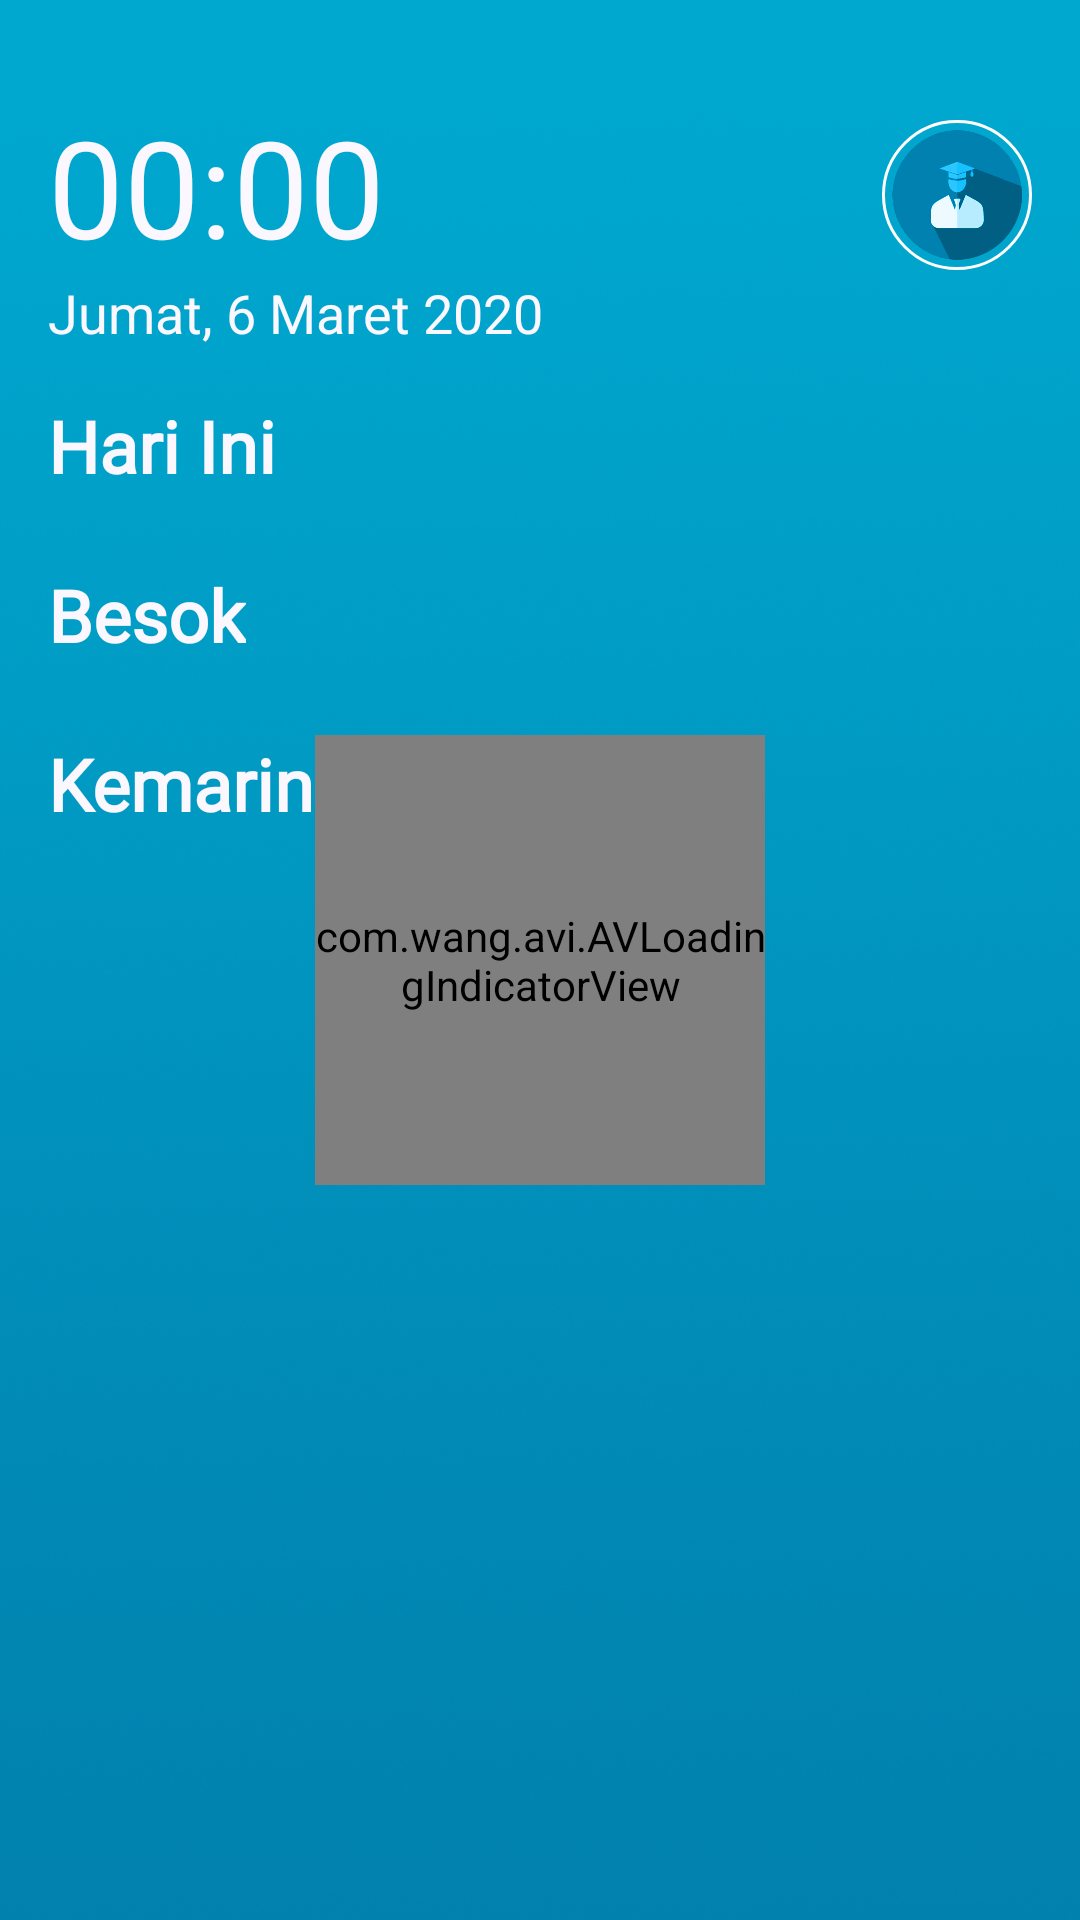

Locate icon controls on the screen. Image size 1080px x 1920px, boxes as Rect(x1, y1, x2, y2).
profile: Rect(882, 120, 1032, 270)
